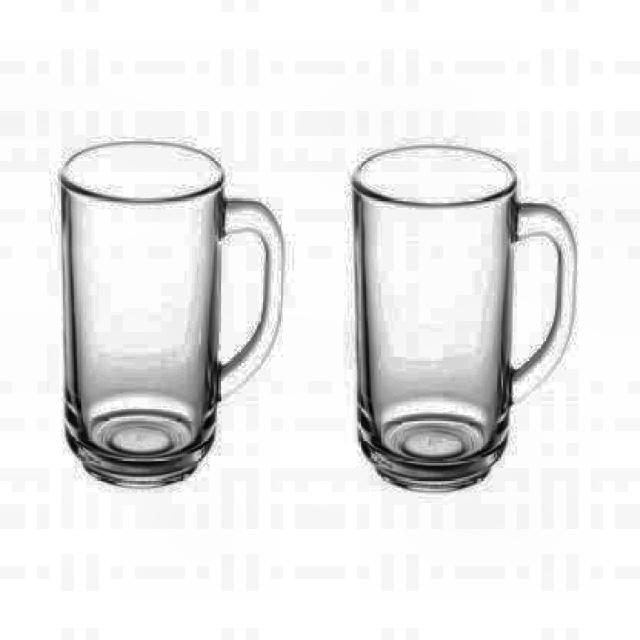Mug: (349, 141, 577, 497), (57, 139, 285, 493)
